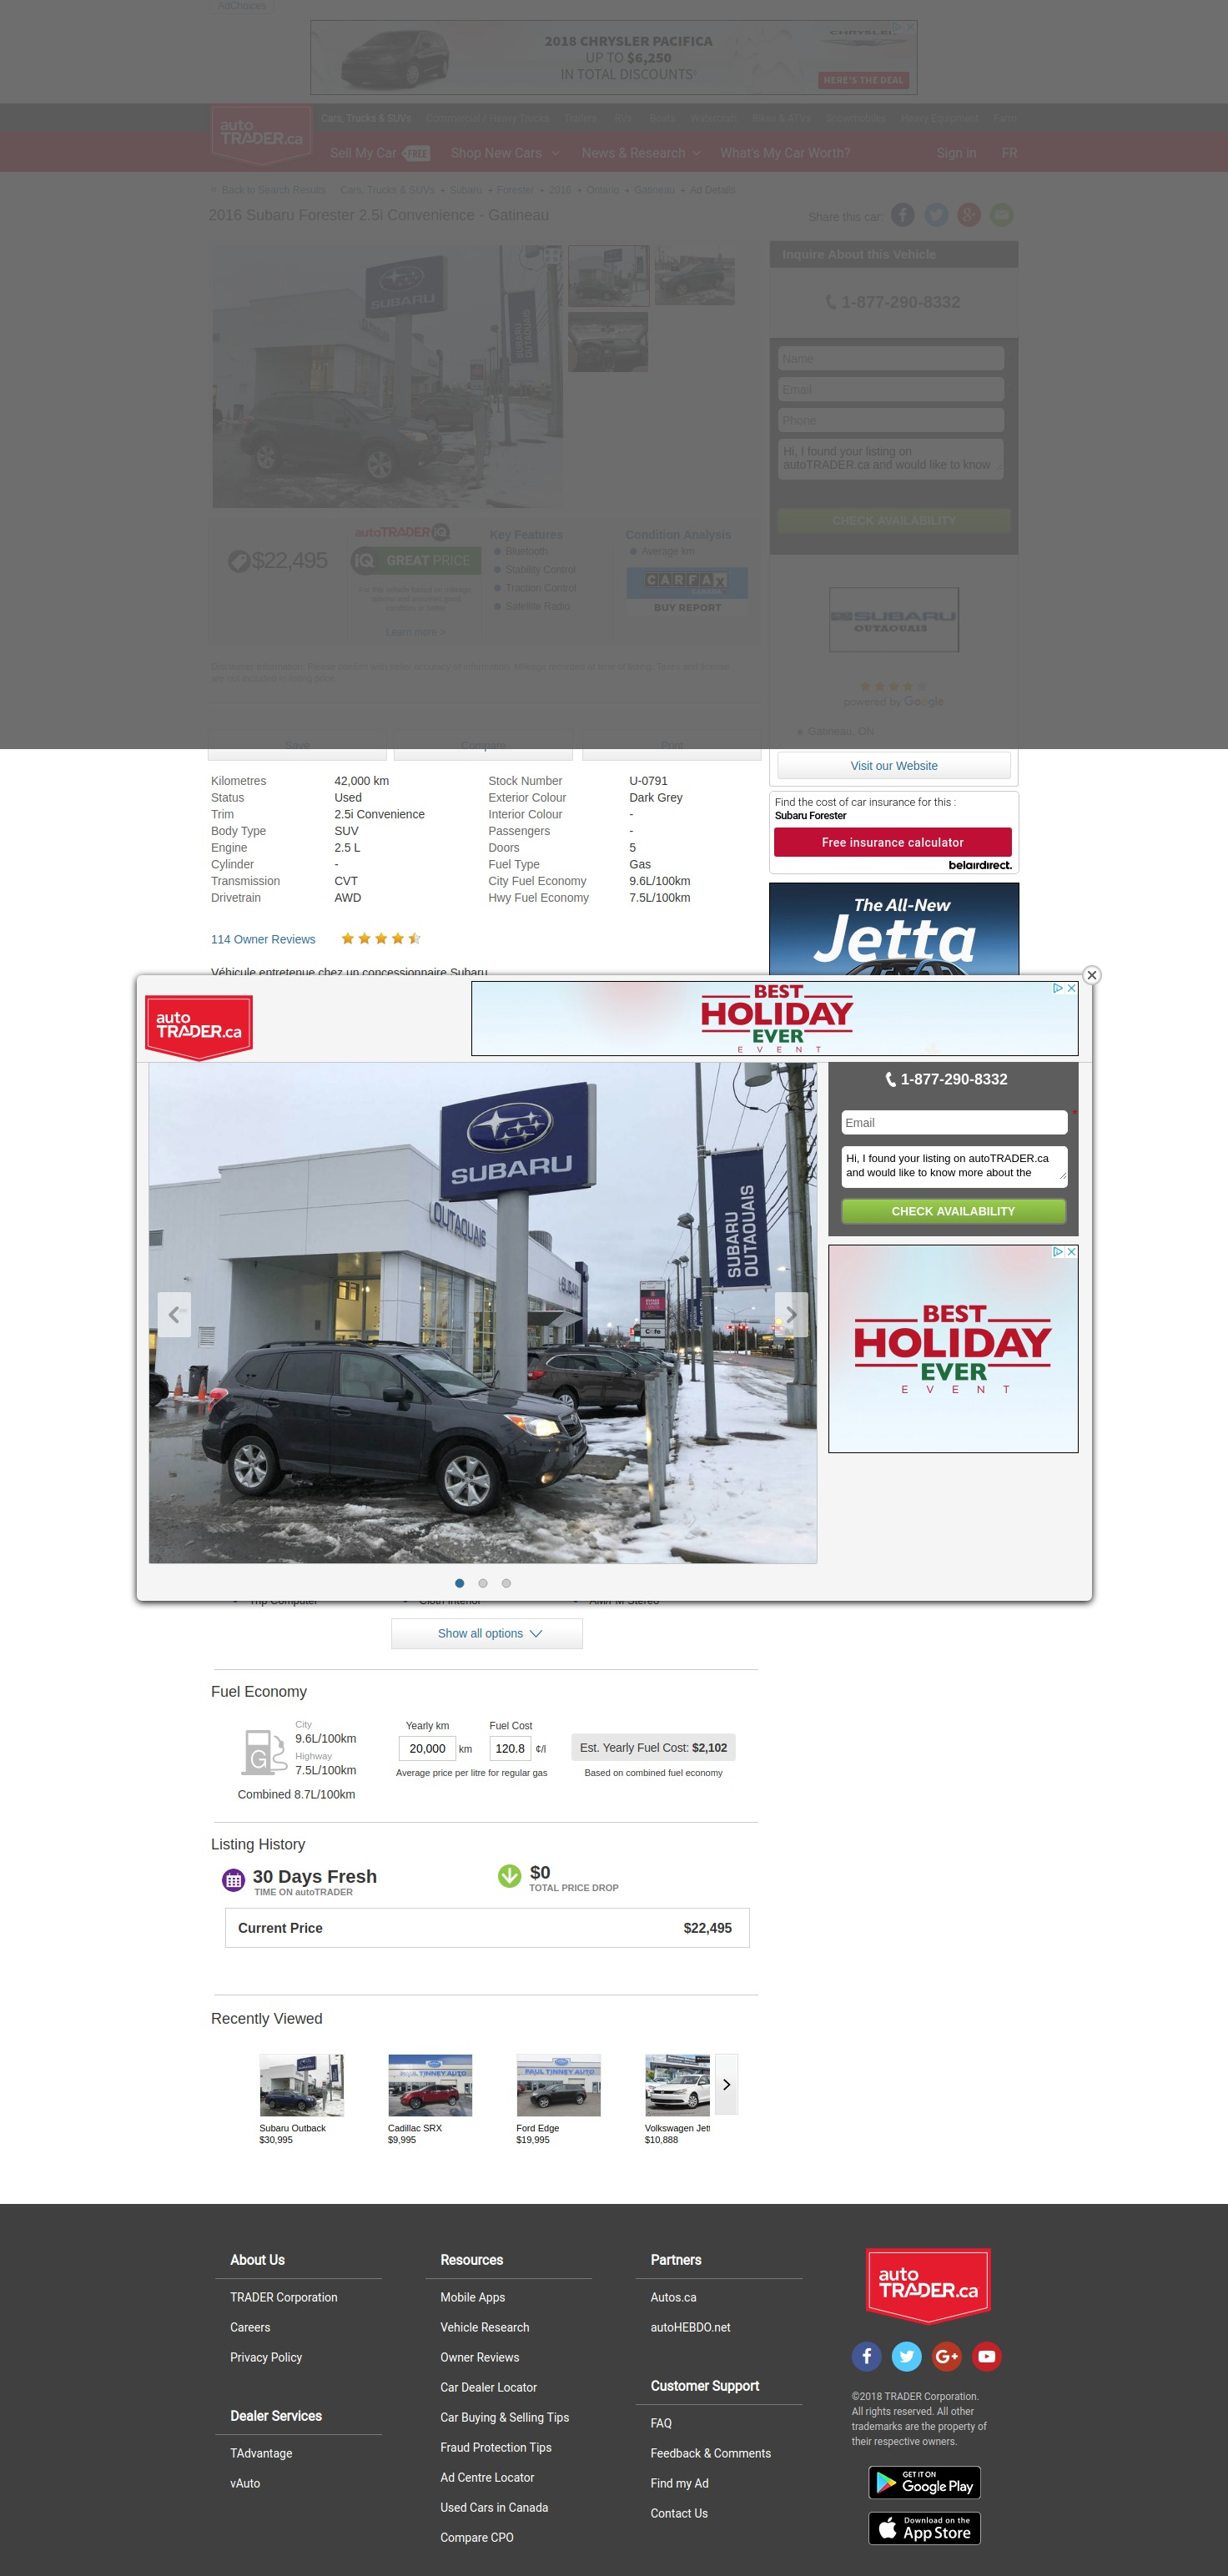car: (774, 1291, 810, 1339)
